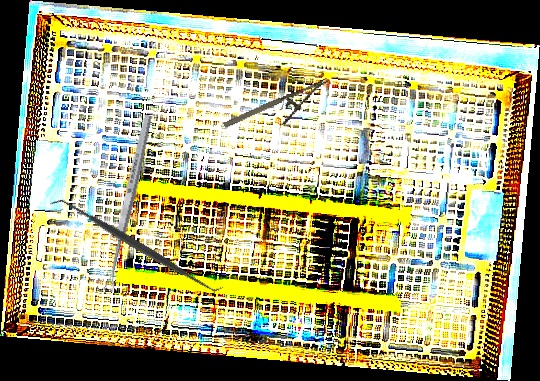Needle Holder: (222, 77, 337, 146)
Spatula Surgical: (48, 186, 225, 305)
Surgical Spoon: (101, 113, 155, 293)
